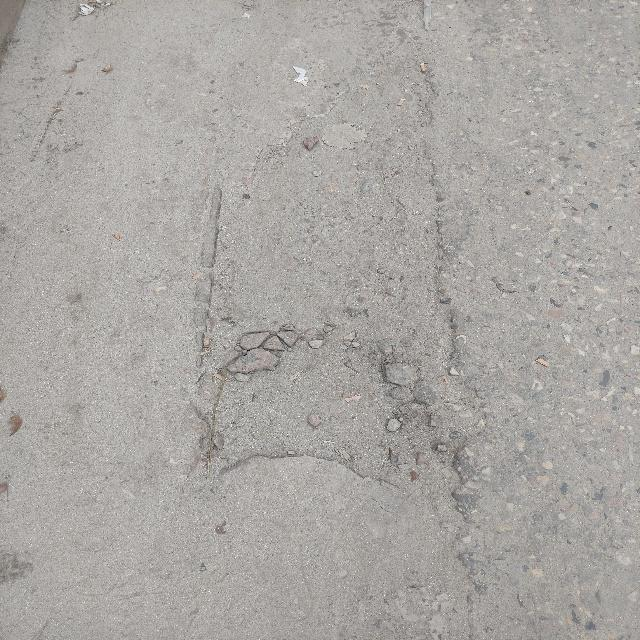Surface Erosion: (108, 120, 608, 579)
